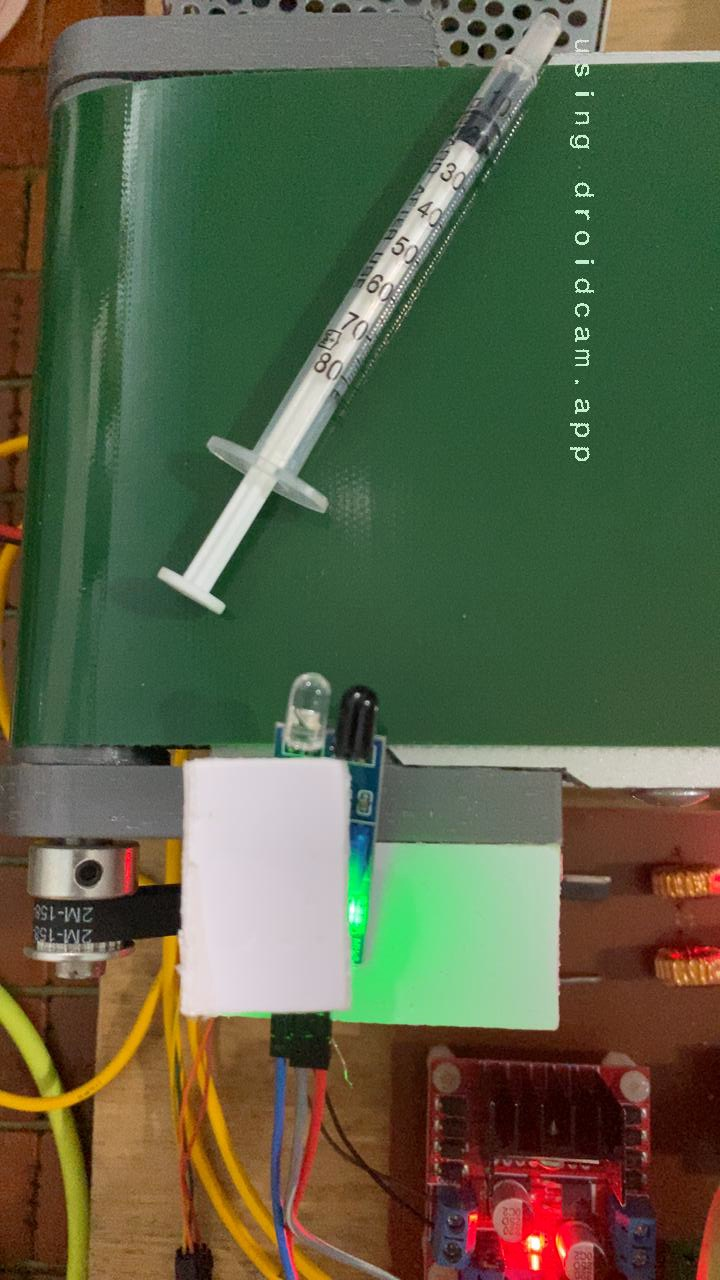syringe: (151, 67, 548, 620)
